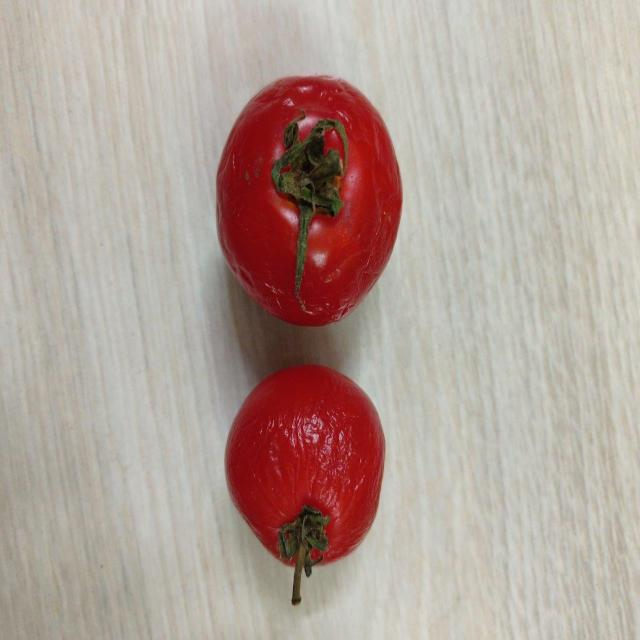overripe: (218, 70, 408, 331), (225, 363, 387, 568)
